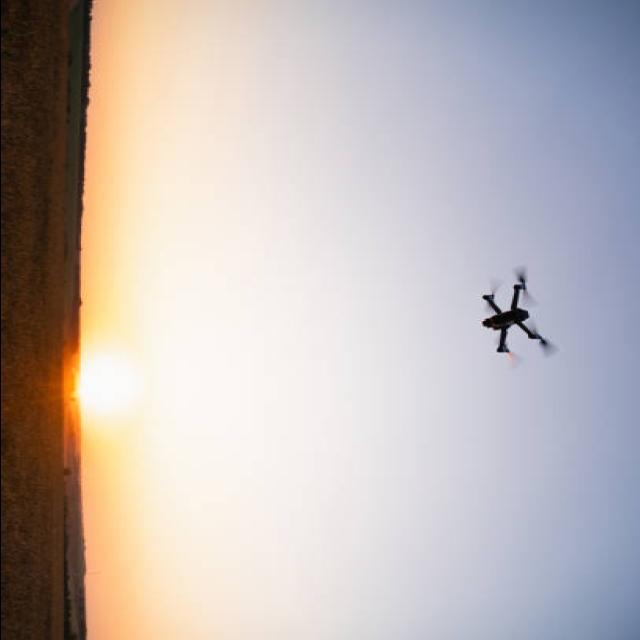drone: (480, 265, 558, 363)
